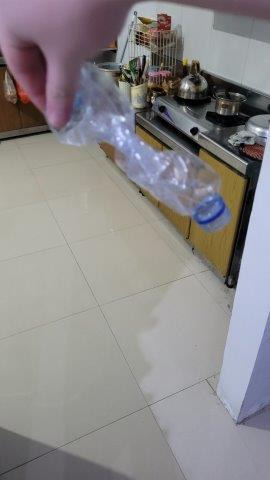botolplastik: (46, 62, 229, 230)
